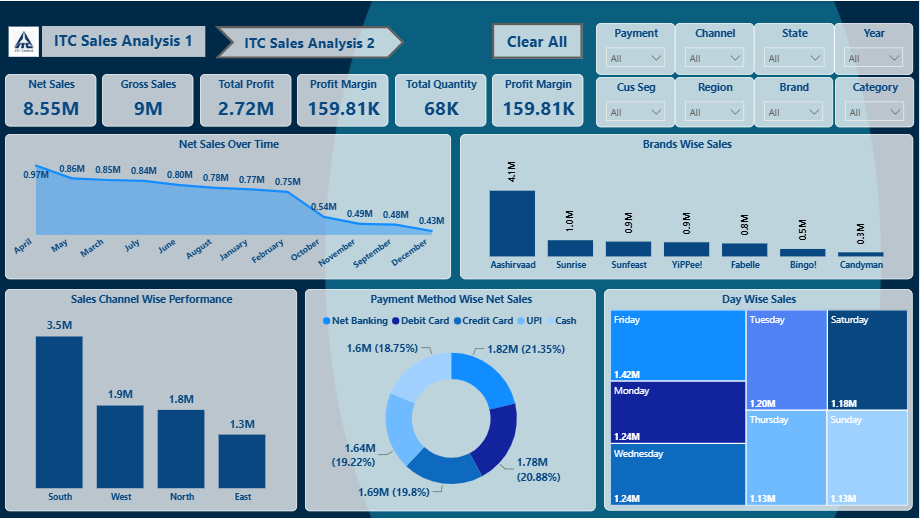

What the dashboard file says about the page in this screenshot:
{"tool":"powerbi","page":{"name":"Sales Analysis ","canvas":[1280,720],"ordinal":1},"visuals":[{"type":"image","box":[8.2,29.9,51.5,51.5],"z":0},{"type":"textbox","box":[59.4,34.6,227,42.6],"z":1000},{"type":"card","title":"Net Sales","fields":{"Values":["Sum(ITC Foods Sales.Net_Sales_INR)"]},"box":[8.2,101,126.8,73.2],"z":2000},{"type":"card","title":"Gross Sales","fields":{"Values":["Sum(ITC Foods Sales.Gross_Sales_INR)"]},"box":[143.3,101,126.8,73.2],"z":3000},{"type":"card","title":"Total Profit","fields":{"Values":["Sum(ITC Foods Sales.Profit_INR)"]},"box":[279.3,101,126.8,73.2],"z":4000},{"type":"card","title":"Profit Margin","fields":{"Values":["Sum(ITC Foods Sales.Profit_Margin_Percent)"]},"box":[414.3,101,126.8,73.2],"z":5000},{"type":"card","title":"Total Quantity","fields":{"Values":["Sum(ITC Foods Sales.Quantity)"]},"box":[550.3,101,126.8,73.2],"z":6000},{"type":"card","title":"Profit Margin","fields":{"Values":["Sum(ITC Foods Sales.Profit_Margin_Percent)"]},"box":[685.3,101,126.8,73.2],"z":7000},{"type":"lineChart","title":"Net Sales Over Time","fields":{"Y":["Sum(ITC Foods Sales.Net_Sales_INR)"],"Category":["ITC Foods Sales.Order_Date.Variation.Date Hierarchy.Month"]},"box":[8.9,185.6,620,202.2],"z":8000},{"type":"clusteredColumnChart","title":"Brands Wise Sales","fields":{"Y":["Sum(ITC Foods Sales.Net_Sales_INR)"],"Category":["ITC Foods Sales.Brand"]},"box":[640.2,185.3,629.6,202.2],"z":9000},{"type":"clusteredColumnChart","title":"Sales Channel Wise Performance","fields":{"Category":["ITC_Foods_Sales_Analysis_Dataset_5000_Rows.Region"],"Y":["Sum(ITC Foods Sales.Net_Sales_INR)"]},"box":[7.8,400,405.6,308.9],"z":11000},{"type":"donutChart","title":"Payment Method Wise Net Sales","fields":{"Y":["Sum(ITC Foods Sales.Net_Sales_INR)"],"Category":["ITC Foods Sales.Payment_Method"]},"box":[425.6,400,404.4,308.9],"z":12000},{"type":"slicer","title":"Year","fields":{"Values":["ITC Foods Sales.Order_Date.Variation.Date Hierarchy.Year"]},"box":[1160,30,110,71.7],"z":13000},{"type":"slicer","title":"State","fields":{"Values":["ITC Foods Sales.State"]},"box":[1050,30,111.7,71.7],"z":14000},{"type":"slicer","title":"Category","fields":{"Values":["ITC Foods Sales.Category"]},"box":[1161.7,105,110,70],"z":15000},{"type":"slicer","title":"Channel","fields":{"Values":["ITC Foods Sales.Sales_Channel"]},"box":[940,30,110,71.7],"z":16000},{"type":"slicer","title":"Region","fields":{"Values":["ITC Foods Sales.Region"]},"box":[940,105,110,70],"z":17000},{"type":"slicer","title":"Brand","fields":{"Values":["ITC Foods Sales.Brand"]},"box":[1050,105,110,70],"z":18000},{"type":"slicer","title":"Cus Seg","fields":{"Values":["ITC Foods Sales.Customer_Segment"]},"box":[830,105,110,70],"z":19000},{"type":"slicer","title":"Payment","fields":{"Values":["ITC_Foods_Sales_Analysis_Dataset_5000_Rows.Payment_Method"]},"box":[830,30,110,71.7],"z":20000},{"type":"actionButton","box":[299.7,34.6,263.3,45.2],"z":21000},{"type":"actionButton","box":[685.4,30.1,125.9,49.7],"z":22000},{"type":"treemap","title":"Day Wise Sales","fields":{"Group":["ITC_Foods_Sales_Analysis_Dataset_5000_Rows.Day_of_Week"],"Values":["Sum(ITC Foods Sales.Net_Sales_INR)"]},"box":[841.1,400,428.9,307.8],"z":23000}]}

Visuals, with their boxes in screenshot pixels (x1, y1, x2, y2), scaled from the page's 1280x720 canvas onto the 920x518 screenshot:
image: bbox=(6, 22, 43, 59)
textbox: bbox=(43, 25, 206, 56)
"Net Sales" card: bbox=(6, 73, 97, 125)
"Gross Sales" card: bbox=(103, 73, 194, 125)
"Total Profit" card: bbox=(201, 73, 292, 125)
"Profit Margin" card: bbox=(298, 73, 389, 125)
"Total Quantity" card: bbox=(396, 73, 487, 125)
"Profit Margin" card: bbox=(493, 73, 584, 125)
"Net Sales Over Time" lineChart: bbox=(6, 134, 452, 279)
"Brands Wise Sales" clusteredColumnChart: bbox=(460, 133, 913, 279)
"Sales Channel Wise Performance" clusteredColumnChart: bbox=(6, 288, 297, 510)
"Payment Method Wise Net Sales" donutChart: bbox=(306, 288, 597, 510)
"Year" slicer: bbox=(834, 22, 913, 73)
"State" slicer: bbox=(755, 22, 835, 73)
"Category" slicer: bbox=(835, 76, 914, 126)
"Channel" slicer: bbox=(676, 22, 755, 73)
"Region" slicer: bbox=(676, 76, 755, 126)
"Brand" slicer: bbox=(755, 76, 834, 126)
"Cus Seg" slicer: bbox=(597, 76, 676, 126)
"Payment" slicer: bbox=(597, 22, 676, 73)
actionButton: bbox=(215, 25, 405, 57)
actionButton: bbox=(493, 22, 583, 57)
"Day Wise Sales" treemap: bbox=(605, 288, 913, 509)
